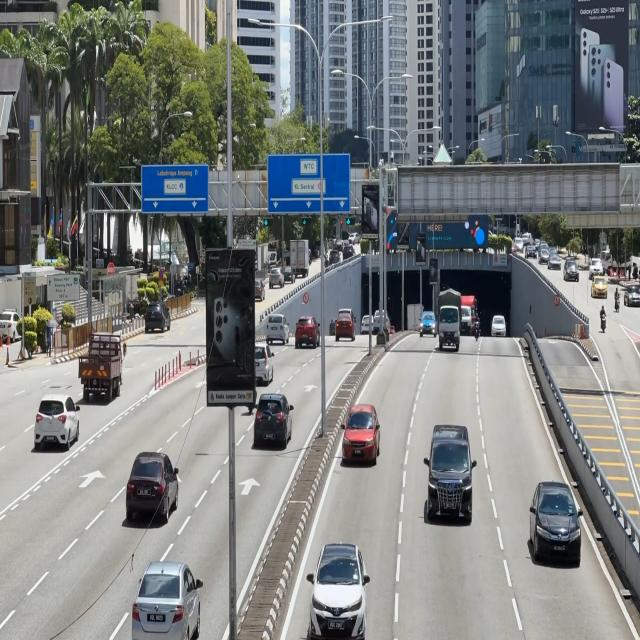Car: (129, 556, 204, 640), (309, 539, 369, 639), (423, 419, 478, 518), (531, 472, 583, 570), (126, 451, 181, 532), (75, 323, 126, 406), (338, 400, 389, 473), (28, 391, 82, 457), (252, 387, 296, 453), (437, 284, 462, 354), (145, 296, 171, 338), (296, 313, 322, 350), (334, 303, 358, 343), (264, 311, 290, 345), (418, 310, 438, 339), (492, 313, 508, 339)
